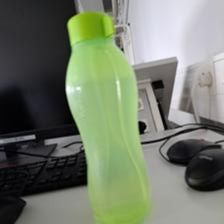bottle: (60, 11, 151, 223)
